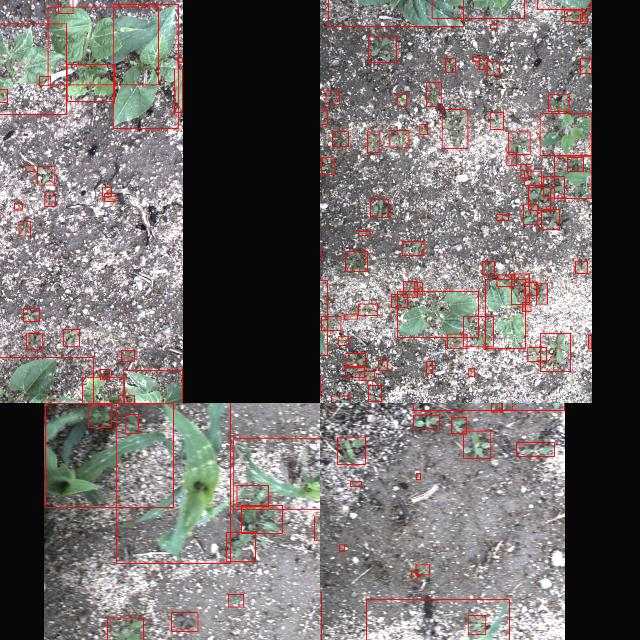crop: (116, 403, 230, 563), (45, 403, 173, 507), (48, 7, 158, 85), (233, 437, 320, 508), (0, 23, 66, 114), (366, 599, 509, 640), (0, 357, 93, 403), (398, 292, 478, 338), (327, 0, 463, 26), (486, 279, 526, 349), (123, 370, 182, 403), (431, 0, 524, 18), (82, 376, 124, 403), (175, 69, 183, 113), (178, 58, 182, 62)
weed: (114, 4, 178, 128), (540, 113, 592, 155), (67, 65, 115, 102), (554, 156, 592, 198), (541, 333, 571, 371), (242, 505, 282, 533), (442, 110, 468, 148), (463, 316, 493, 346), (227, 532, 256, 562), (106, 618, 143, 640), (464, 431, 491, 459), (368, 37, 396, 63), (337, 438, 365, 464), (236, 486, 268, 506), (88, 404, 112, 428), (512, 274, 530, 304), (517, 442, 555, 456), (172, 612, 198, 632), (508, 132, 530, 154), (529, 188, 551, 210), (345, 251, 367, 271), (544, 176, 564, 198), (426, 83, 442, 107), (542, 209, 560, 229), (549, 94, 569, 112), (468, 615, 486, 635), (389, 130, 408, 148), (370, 199, 388, 217), (37, 167, 54, 186), (413, 416, 439, 428), (402, 242, 424, 256), (26, 332, 42, 350), (524, 170, 542, 186), (528, 346, 546, 362), (524, 205, 538, 225), (321, 316, 341, 330), (447, 334, 467, 348), (63, 329, 79, 346), (536, 282, 548, 304), (125, 414, 138, 434), (490, 112, 504, 130), (390, 294, 408, 308), (358, 304, 378, 316), (368, 132, 380, 152), (345, 354, 365, 366), (23, 308, 39, 322), (568, 157, 584, 171), (332, 132, 348, 146), (368, 385, 382, 401), (452, 417, 466, 433), (321, 158, 334, 175), (325, 90, 339, 104), (403, 282, 417, 296), (524, 282, 538, 296), (58, 0, 73, 13), (580, 58, 592, 74), (498, 275, 514, 287), (228, 594, 244, 606), (565, 11, 583, 21), (346, 368, 364, 378), (487, 62, 499, 76), (520, 165, 532, 178), (576, 261, 588, 273), (482, 262, 494, 274), (358, 372, 374, 381), (20, 222, 30, 236), (507, 152, 517, 166), (445, 58, 455, 72), (331, 396, 351, 403), (416, 565, 430, 575), (314, 516, 320, 539), (122, 351, 134, 362), (44, 196, 56, 207), (397, 94, 407, 106), (119, 396, 135, 403), (100, 368, 110, 379), (39, 76, 51, 85), (320, 109, 327, 124), (338, 336, 348, 346), (378, 360, 388, 370), (522, 302, 532, 312), (491, 403, 502, 412), (104, 193, 116, 201), (414, 283, 422, 295), (0, 89, 7, 102), (102, 187, 111, 197), (479, 59, 487, 70), (501, 403, 512, 411), (420, 124, 428, 134), (580, 14, 588, 24), (426, 361, 432, 374), (497, 214, 509, 220), (14, 202, 22, 210), (588, 335, 592, 349), (26, 165, 34, 171), (344, 314, 356, 318), (472, 56, 480, 62), (469, 368, 475, 376), (358, 231, 370, 235), (350, 482, 362, 486), (412, 571, 418, 579), (490, 24, 498, 28), (340, 544, 344, 552), (416, 472, 420, 480)
